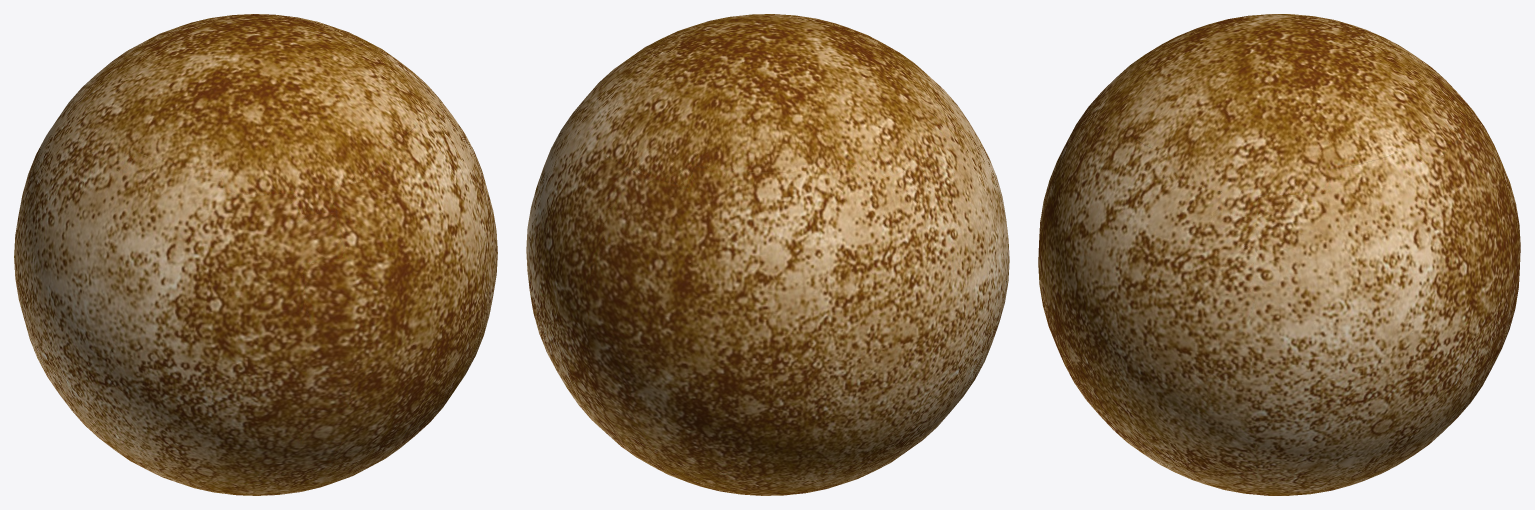
Rendered from mercury.obj.
The picture shows the model from 3 angles, left to right: view 1: azimuth 30°, elevation 25°; view 2: azimuth 150°, elevation 25°; view 3: azimuth 270°, elevation 25°; orthographic projection.
Visible parts, largest first — view 1: Mercury.001_Sphere.009; view 2: Mercury.001_Sphere.009; view 3: Mercury.001_Sphere.009.
Boxes of the visible parts, <box> form: Mercury.001_Sphere.009: <box>14,14,497,495</box>; Mercury.001_Sphere.009: <box>526,14,1009,495</box>; Mercury.001_Sphere.009: <box>1038,14,1520,495</box>.
Bounding box in the file's own units: 2.44 × 2.44 × 2.44.
Materials: 1 (1 with a texture image).
